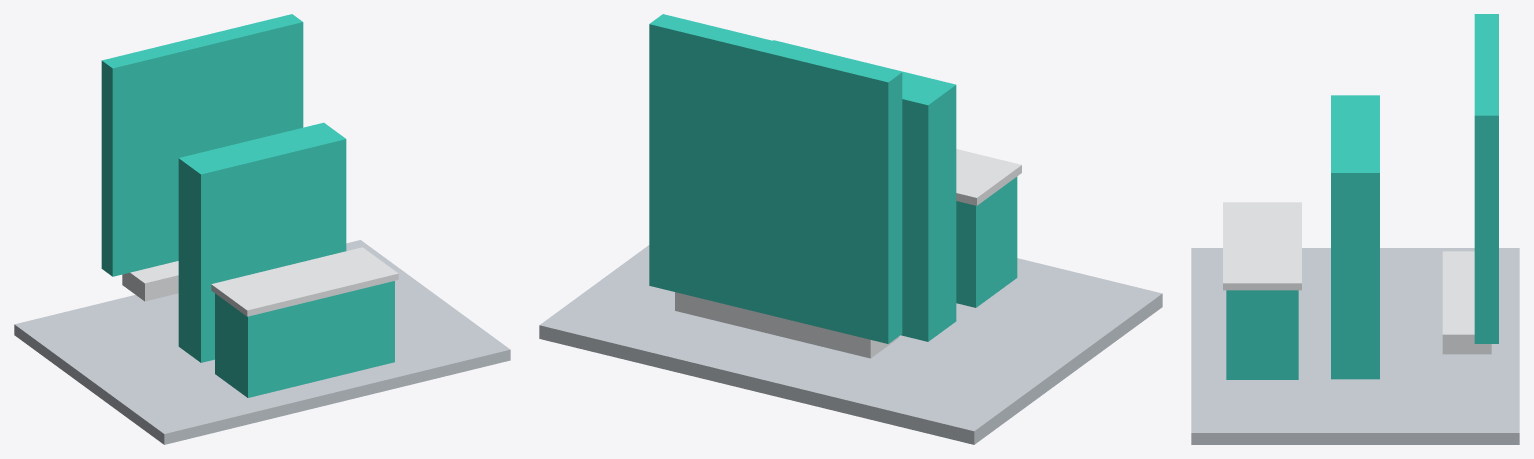
The picture shows the model from 3 angles, left to right: view 1: azimuth 30°, elevation 25°; view 2: azimuth 150°, elevation 25°; view 3: azimuth 270°, elevation 25°; orthographic projection. The views are drawn at different scales.
Parts seen in each view (by area): view 1: Exhibition Booth Concept; view 2: Exhibition Booth Concept; view 3: Exhibition Booth Concept.
Part boxes in pixels (x1=…): Exhibition Booth Concept: x1=14, y1=14, x2=510, y2=444; Exhibition Booth Concept: x1=539, y1=14, x2=1162, y2=444; Exhibition Booth Concept: x1=1191, y1=14, x2=1519, y2=444.
Bounding box in the file's own units: 4 × 2.9 × 3.
